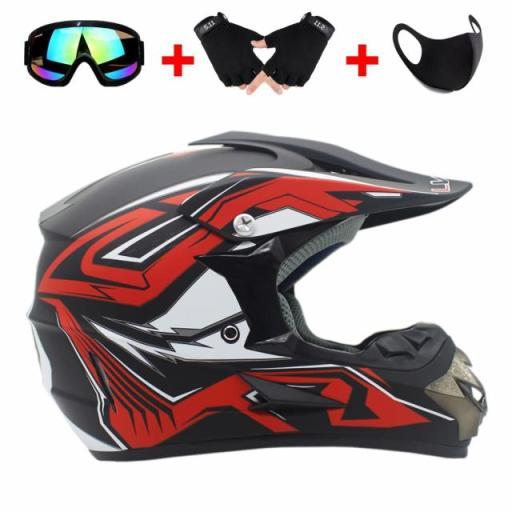Helmet: (30, 132, 486, 459)
